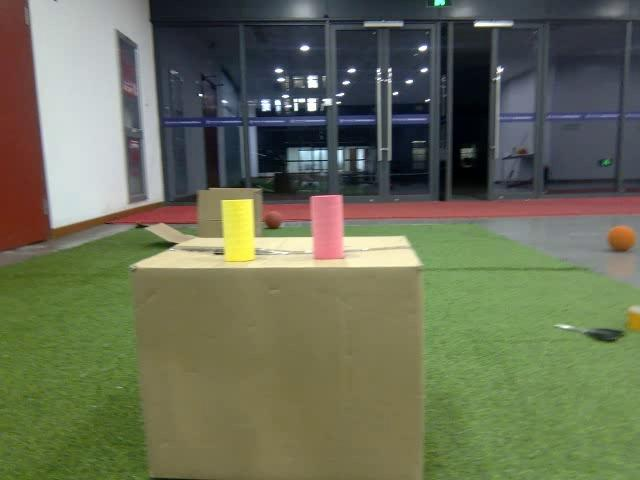orange_ball: (607, 226, 635, 253)
red_ball: (264, 208, 284, 230)
red_cylinder: (310, 192, 348, 261)
yellow_cylinder: (220, 197, 257, 264)
